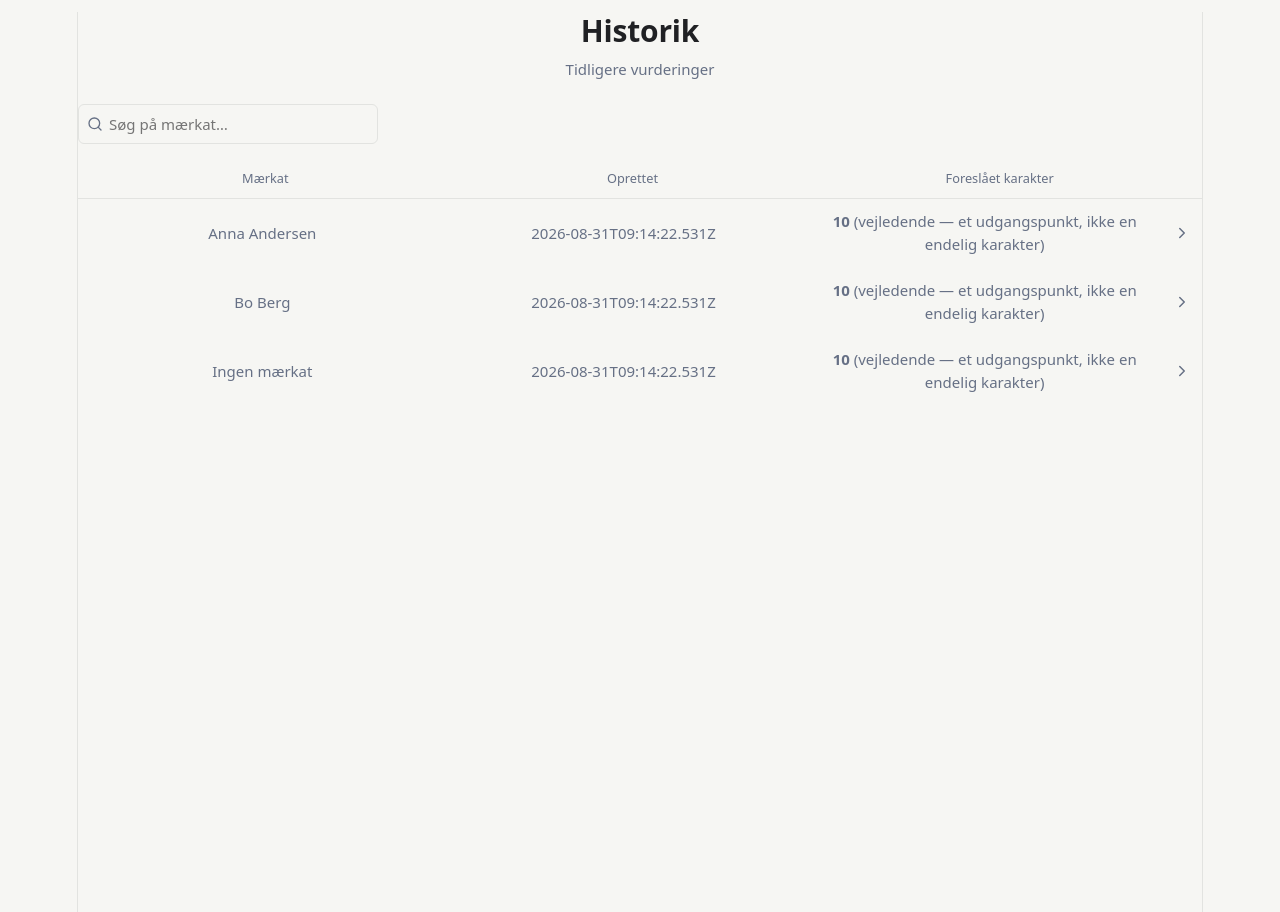
Test case: HistoryPage › search by Label › filters visible rows to those whose Label contains the typed text, case-insensitively
Expected: the number of list items is 3, [78,199,1202,268]; [78,268,1202,337]; [78,337,1202,406]
Type "anna" into the search field at x=228, y=124, box [78,104,378,144]
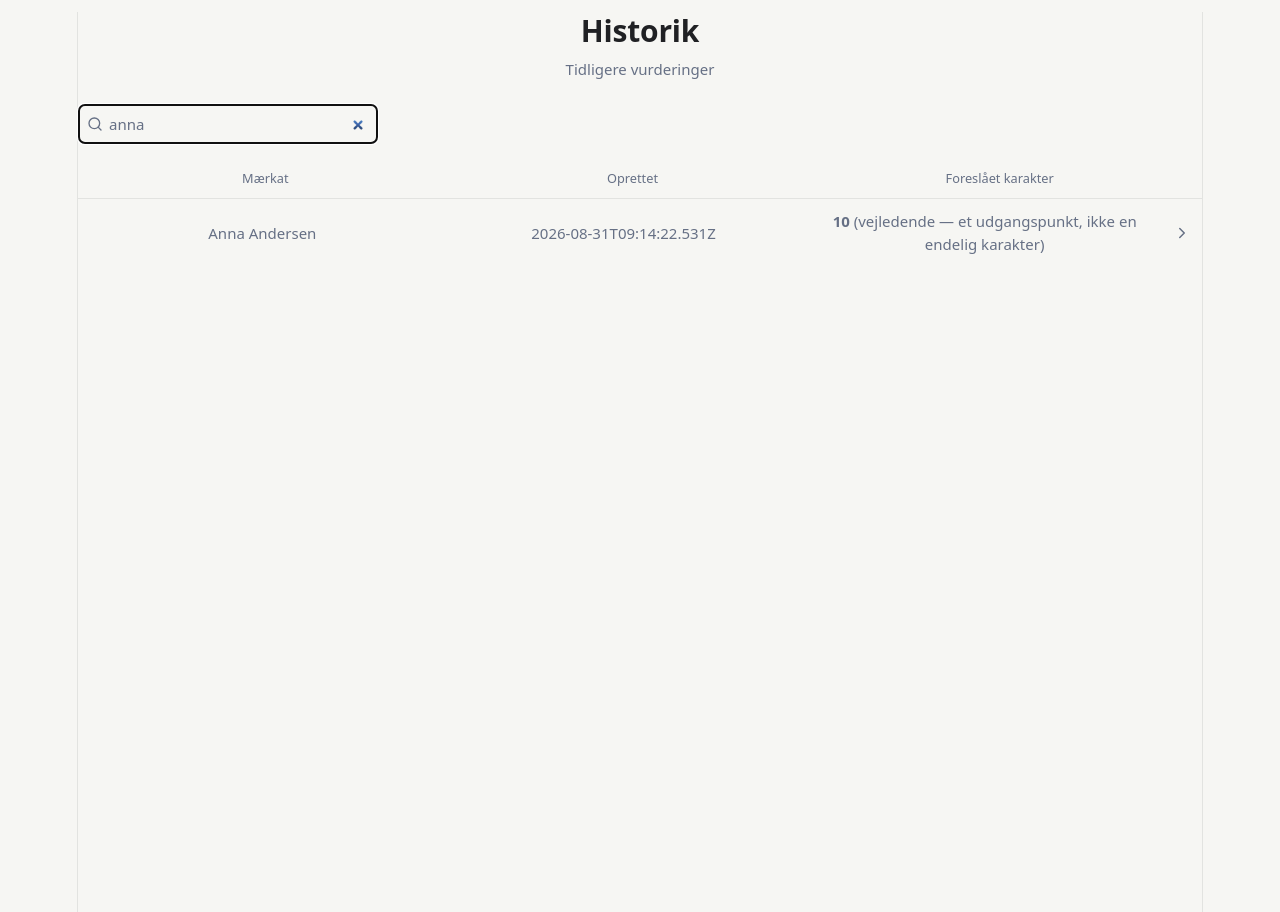
Expected: the list item shows "Anna Andersen", [78,199,1202,268]
Expected: the number of list items is 1, [78,199,1202,268]
